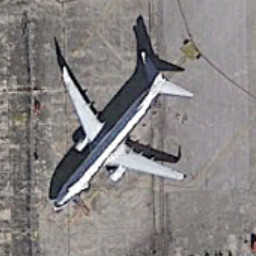Airplane: (39, 41, 199, 220)
